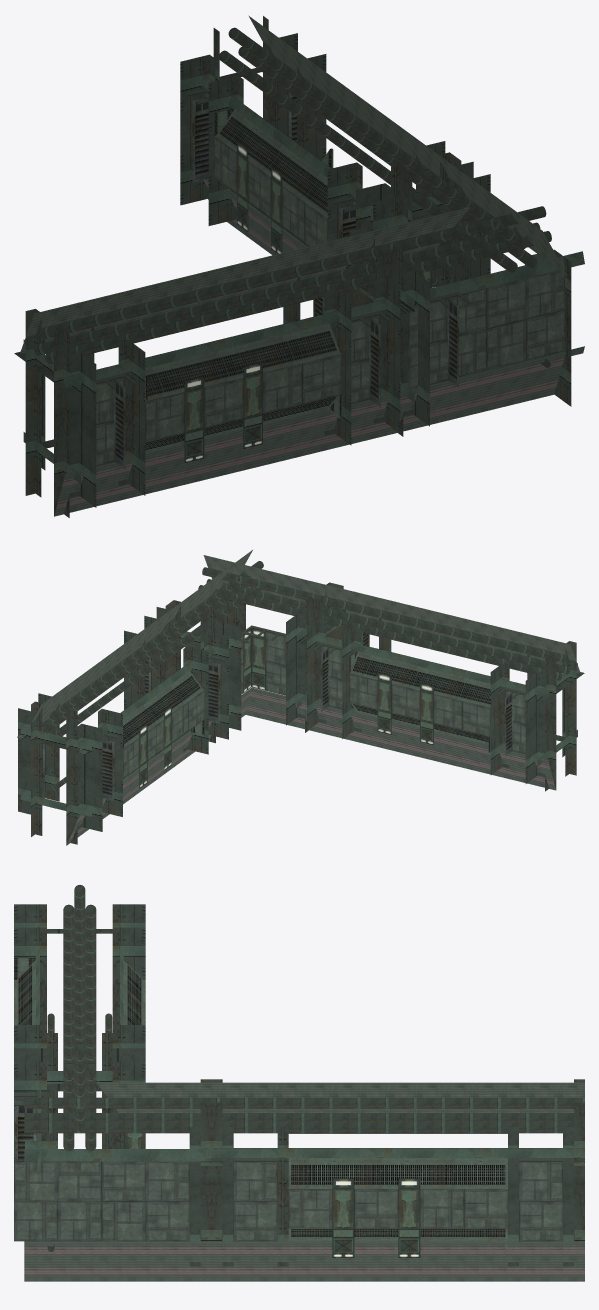
Rendered from corridors.glb.
The picture shows the model from 3 angles, top to bottom: view 1: azimuth 30°, elevation 25°; view 2: azimuth 150°, elevation 25°; view 3: azimuth 270°, elevation 25°; orthographic projection. The views are drawn at different scales.
Parts seen in each view (by area): view 1: Object_5, Object_3, Object_7, Object_8, Object_4, Object_6; view 2: Object_5, Object_7, Object_3, Object_8, Object_6, Object_4; view 3: Object_5, Object_3, Object_7, Object_4, Object_8, Object_6.
Part boxes in pixels (box(x1,y1,x2,y2)): Object_5: box(14, 16, 584, 517); Object_3: box(96, 92, 564, 465); Object_7: box(54, 179, 565, 516); Object_8: box(20, 15, 567, 353); Object_4: box(145, 109, 341, 453); Object_6: box(96, 88, 469, 469); Object_5: box(17, 561, 584, 845); Object_7: box(66, 687, 555, 845); Object_3: box(102, 632, 525, 778); Object_8: box(24, 550, 580, 736); Object_6: box(42, 625, 525, 800); Object_4: box(123, 651, 490, 780); Object_5: box(14, 885, 584, 1266); Object_3: box(14, 1161, 562, 1241); Object_7: box(24, 1241, 584, 1281); Object_4: box(14, 958, 507, 1250); Object_8: box(97, 1082, 584, 1112); Object_6: box(14, 1093, 562, 1257).
Size of the model in its own units: 4.53 by 1.57 by 4.44.
Materials: 7 (7 with a texture image).
